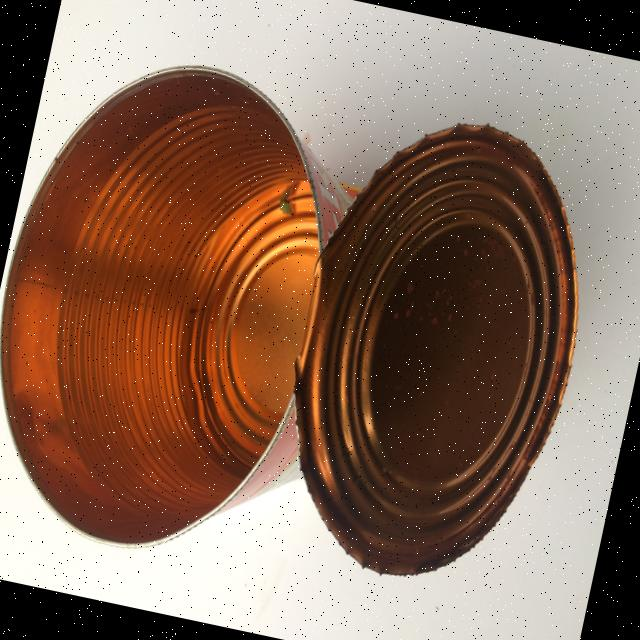metal: (0, 3, 361, 630), (254, 49, 611, 630)
